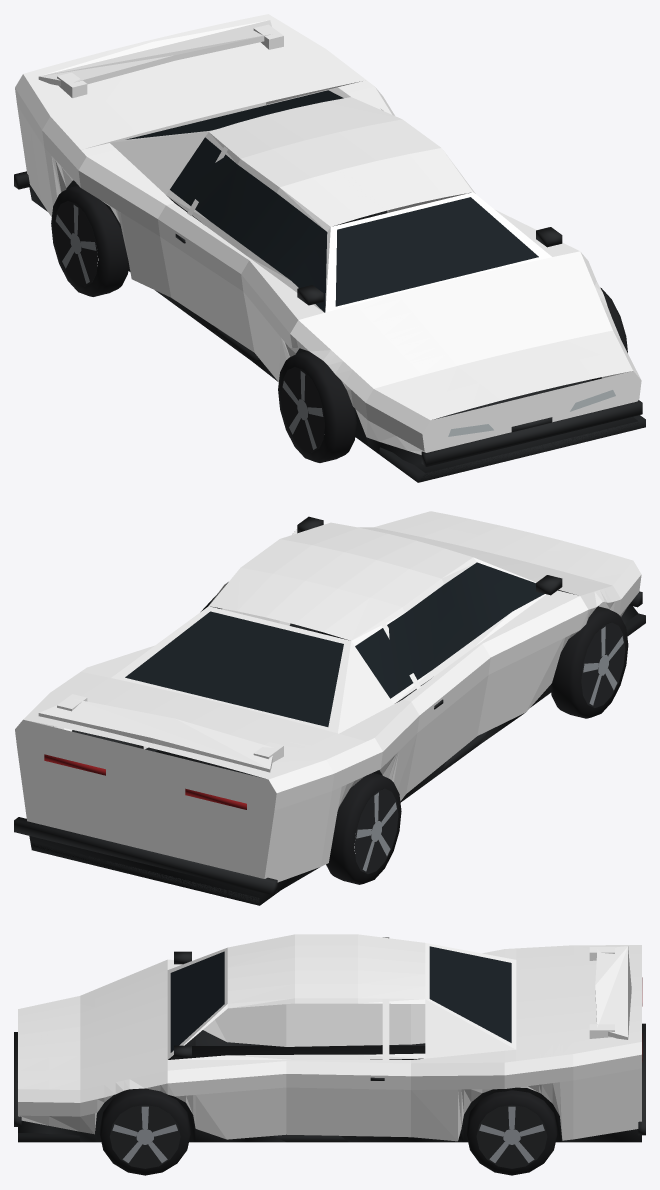
File: vorhaus_ferro.glb
The picture shows the model from 3 angles, top to bottom: view 1: azimuth 30°, elevation 25°; view 2: azimuth 150°, elevation 25°; view 3: azimuth 270°, elevation 25°; orthographic projection. The views are drawn at different scales.
Visible parts, largest first — view 1: Body_Paint, Body_Details, Mount_FrontLeft_Wheel_Details, Mount_RearLeft_Wheel_Details; view 2: Body_Paint, Body_Details, Mount_FrontLeft_Wheel_Details, Mount_RearLeft_Wheel_Details; view 3: Body_Paint, Body_Details, Mount_FrontRight_Wheel_Details, Mount_RearRight_Wheel_Details.
Boxes of the visible parts, box(x1,y1,x2,y2) form: Body_Paint: box(15, 14, 641, 454); Body_Details: box(14, 90, 645, 482); Mount_FrontLeft_Wheel_Details: box(278, 351, 356, 462); Mount_RearLeft_Wheel_Details: box(51, 185, 128, 296); Body_Paint: box(15, 511, 641, 882); Body_Details: box(14, 516, 645, 905); Mount_FrontLeft_Wheel_Details: box(550, 606, 628, 718); Mount_RearLeft_Wheel_Details: box(326, 773, 401, 884); Body_Paint: box(18, 934, 641, 1141); Body_Details: box(14, 946, 645, 1142); Mount_FrontRight_Wheel_Details: box(99, 1088, 190, 1175); Mount_RearRight_Wheel_Details: box(466, 1090, 557, 1175).
Size of the model in its own units: 2.03 by 1.22 by 4.51.
2 materials, 1 textured.
